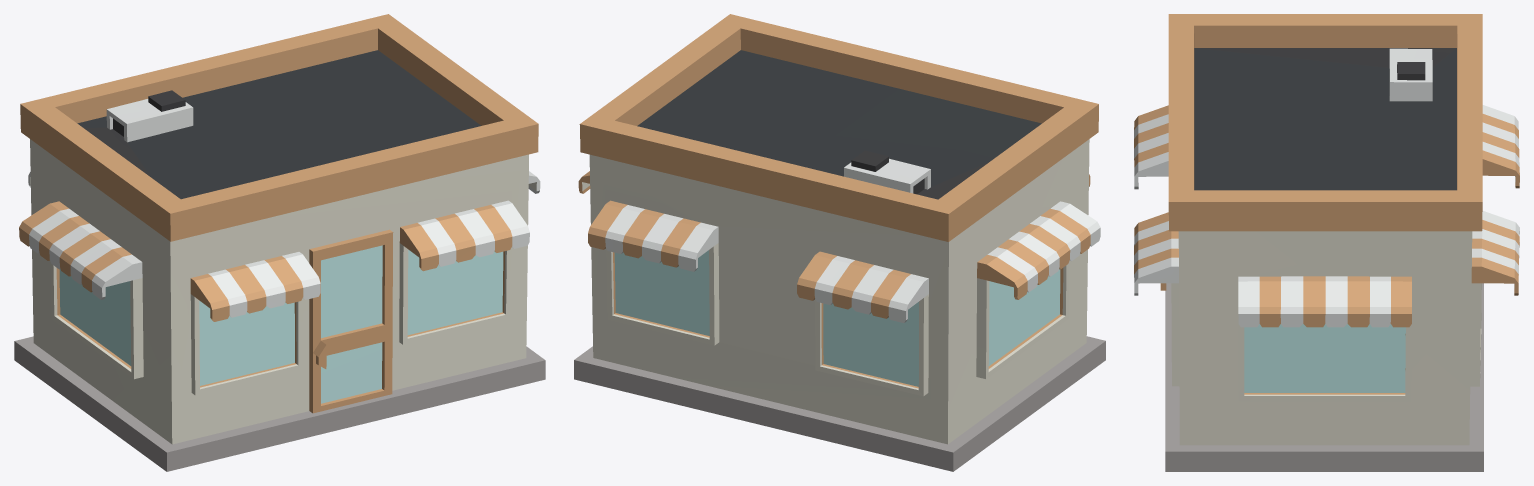
File: bar-shop.glb
3 renders of one model, left to right at view 1: azimuth 30°, elevation 25°; view 2: azimuth 150°, elevation 25°; view 3: azimuth 270°, elevation 25°, orthographic. The views are drawn at different scales.
Visible parts, largest first — view 1: Shop_Cube.006; view 2: Shop_Cube.006; view 3: Shop_Cube.006.
Boxes of the visible parts, <box> form: Shop_Cube.006: <box>14,14,545,471</box>; Shop_Cube.006: <box>574,14,1105,471</box>; Shop_Cube.006: <box>1134,14,1519,471</box>.
Bounding box in the file's own units: 2.48 × 1.39 × 1.8.
Materials: 1 (1 with a texture image).
